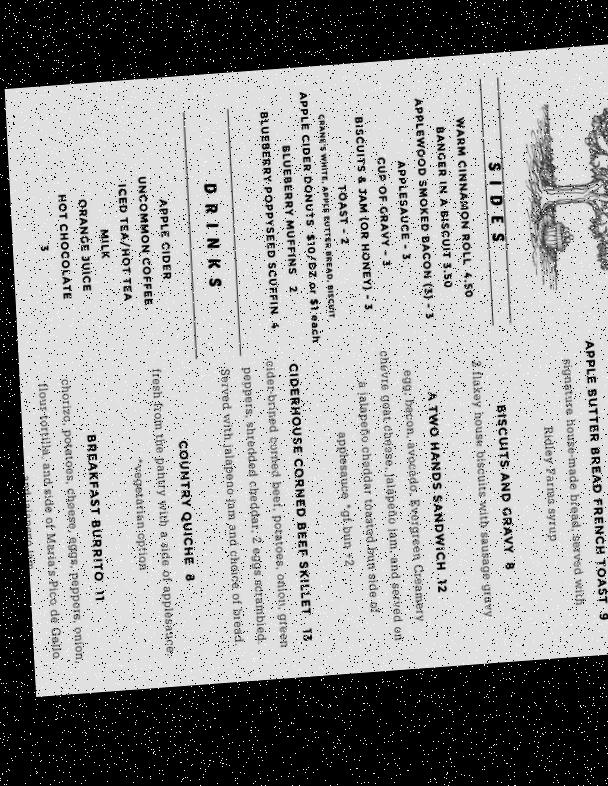Menu-Items: (315, 356, 456, 657), (203, 358, 315, 665), (15, 368, 115, 680), (114, 365, 203, 672), (523, 338, 608, 643), (452, 349, 525, 639), (245, 109, 283, 338), (291, 93, 321, 351), (309, 115, 338, 330), (345, 121, 375, 320), (407, 98, 432, 336), (448, 119, 477, 315), (427, 121, 453, 302), (274, 143, 297, 304), (368, 159, 391, 278), (390, 161, 412, 273), (331, 184, 350, 260)
